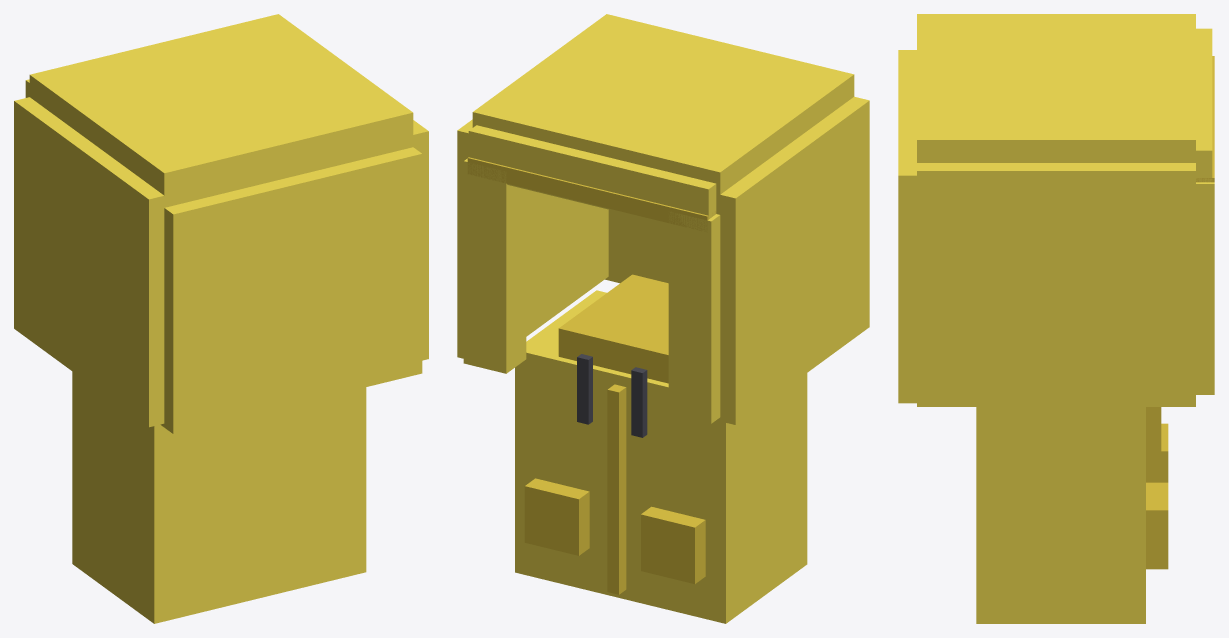
The model's file is pescador_tronco.glb.
3 views of the same model, side by side, from view 1: azimuth 30°, elevation 25°; view 2: azimuth 150°, elevation 25°; view 3: azimuth 270°, elevation 25° (orthographic). The views are drawn at different scales.
Parts seen in each view (by area): view 1: pescador_tronco; view 2: pescador_tronco; view 3: pescador_tronco.
Boxes of the visible parts, left/top/right/bottom form: pescador_tronco: left=14, top=14, right=428, bottom=623; pescador_tronco: left=457, top=14, right=869, bottom=623; pescador_tronco: left=898, top=14, right=1214, bottom=623.
Size of the model in its own units: 0.72 by 1.17 by 0.68.
